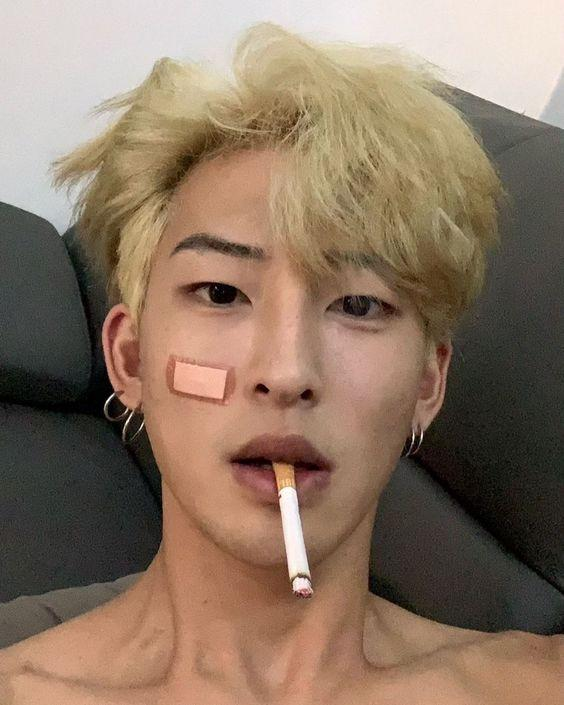cigarette: (273, 460, 314, 601)
